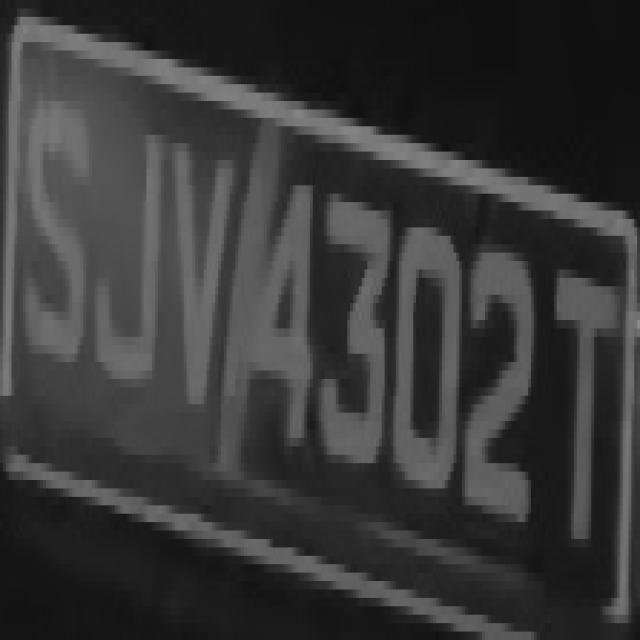0: (390, 177, 462, 514)
2: (465, 194, 542, 522)
3: (330, 143, 393, 497)
4: (253, 118, 324, 463)
J: (104, 101, 172, 413)
S: (26, 92, 97, 412)
T: (545, 235, 626, 572)
V: (169, 84, 244, 447)
